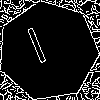I: (23, 25, 54, 74)
